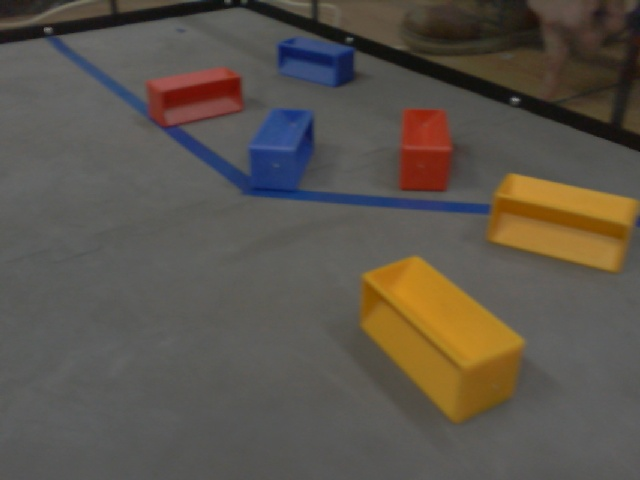BlueSample: (246, 102, 319, 192), (275, 31, 356, 87)
RedSample: (144, 65, 245, 127), (396, 103, 454, 196)
YellowSample: (354, 251, 525, 426), (479, 168, 639, 278)
